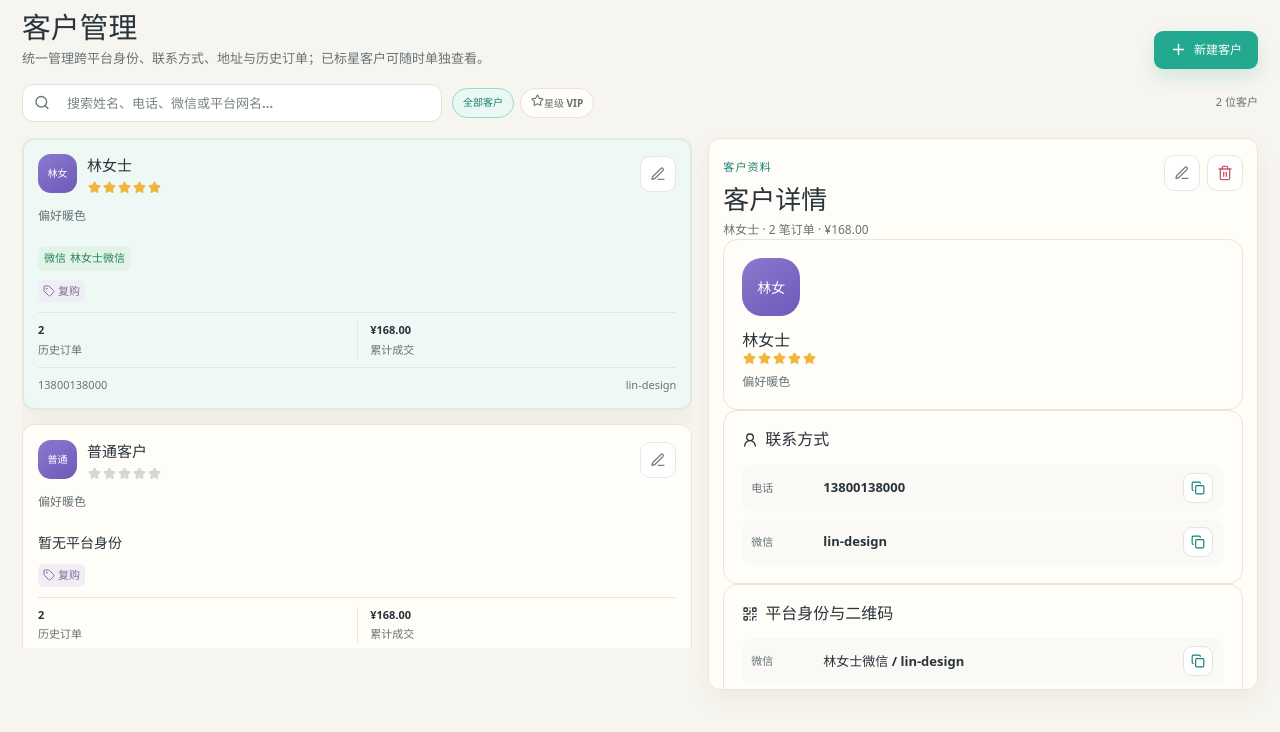
Scenario: CustomersPage › keeps the VIP view discoverable inside customer management
(page scrolled)
Expected: the heading "普通客户" is shown, [87, 440, 147, 460]
What coordinates should you click on to do the following:
click the button "星级 VIP"
I would click on:
 (557, 102)
Its box is [520, 88, 594, 118].
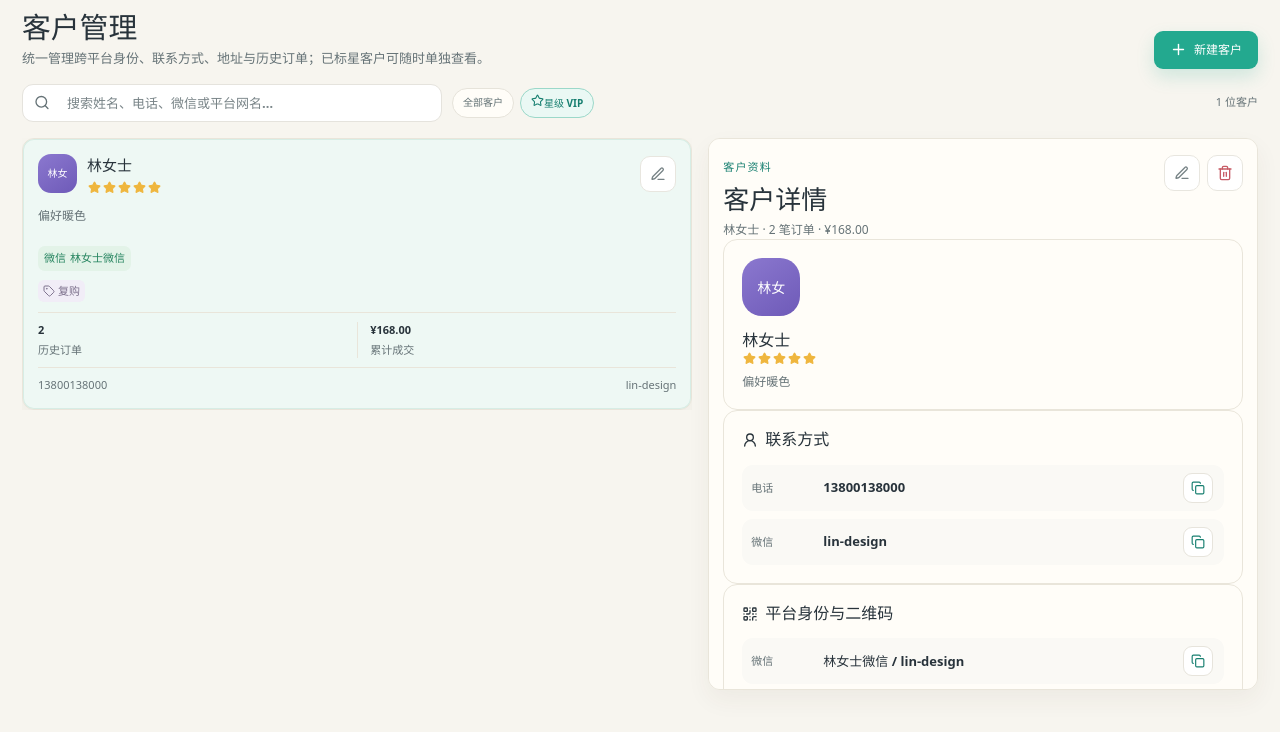
Expected: the 1st heading "林女士" is shown, [87, 154, 132, 174]
Expected: the button "普通客户" is gone
